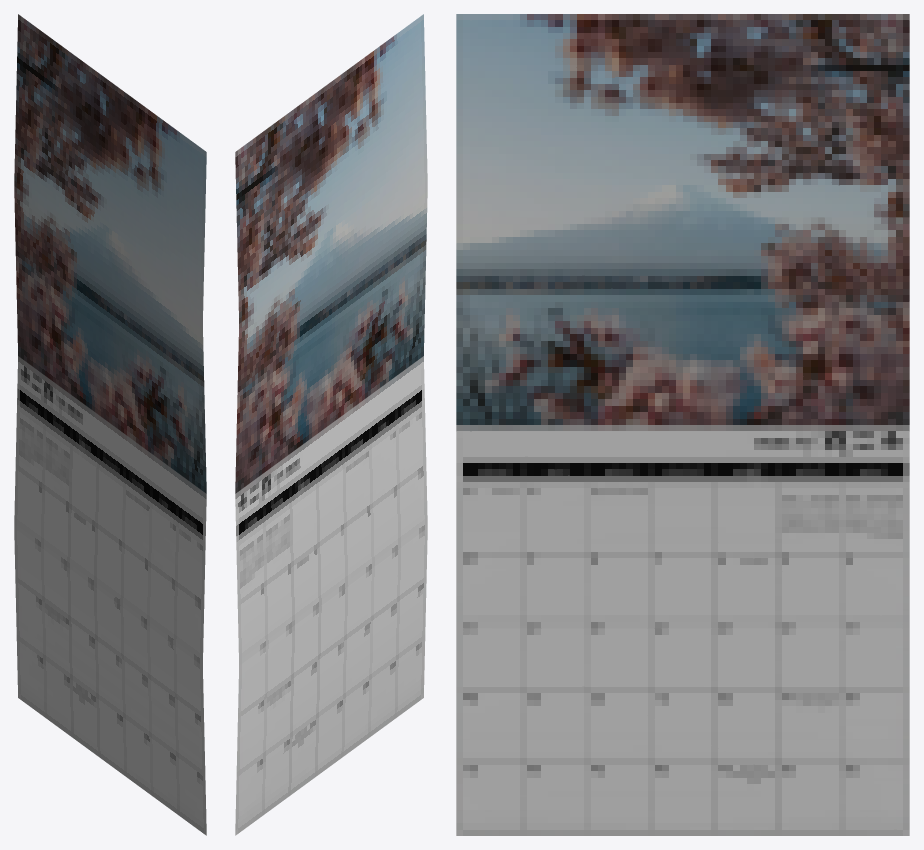
Rendered from Calendar.glb.
The picture shows the model from 3 angles, left to right: view 1: azimuth 30°, elevation 25°; view 2: azimuth 150°, elevation 25°; view 3: azimuth 270°, elevation 25°; orthographic projection. The views are drawn at different scales.
Visible parts, largest first — view 1: calendar; view 2: calendar; view 3: calendar.
Part boxes in pixels (x1=…): calendar: x1=14, y1=14, x2=206, y2=835; calendar: x1=235, y1=14, x2=427, y2=835; calendar: x1=456, y1=14, x2=909, y2=835.
Bounding box in the file's own units: 0.00366 × 0.6096 × 0.3048.
1 material, 1 textured.
